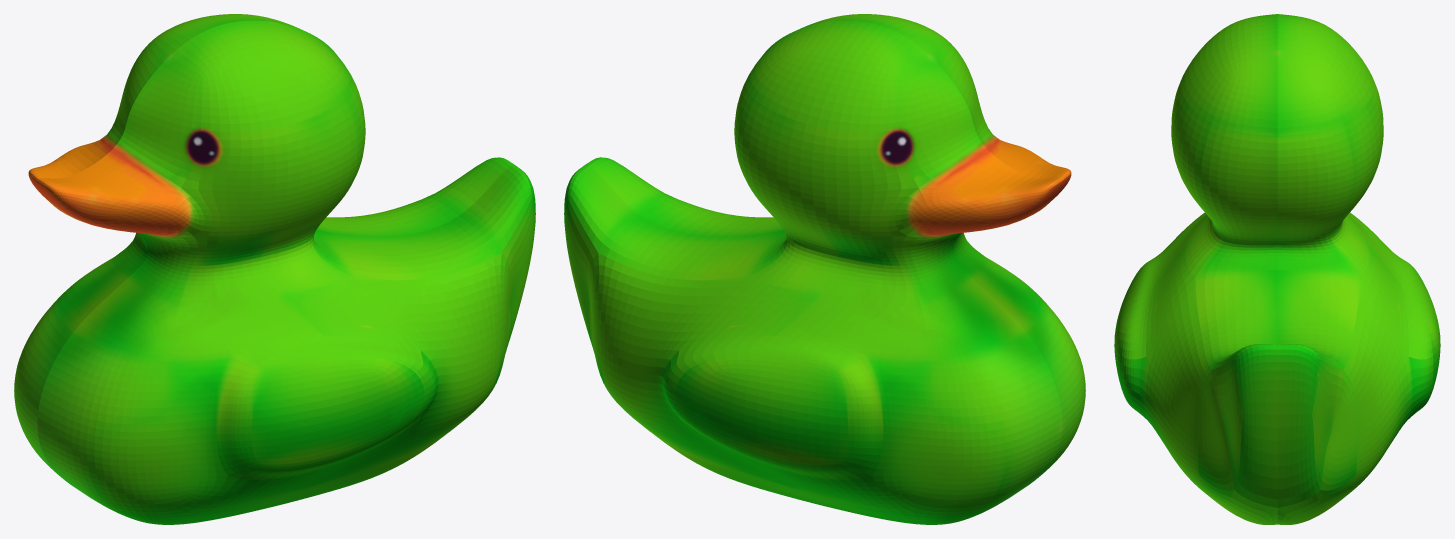
Rendered from duck_green.obj.
3 views of the same model, side by side, from view 1: azimuth 30°, elevation 25°; view 2: azimuth 150°, elevation 25°; view 3: azimuth 270°, elevation 25° (orthographic). The views are drawn at different scales.
Visible parts, largest first — view 1: Cube; view 2: Cube; view 3: Cube.
Boxes of the visible parts, <box> form: Cube: <box>14,14,535,524</box>; Cube: <box>564,14,1085,524</box>; Cube: <box>1114,14,1440,524</box>.
Bounding box in the file's own units: 6.11 × 5.75 × 3.89.
